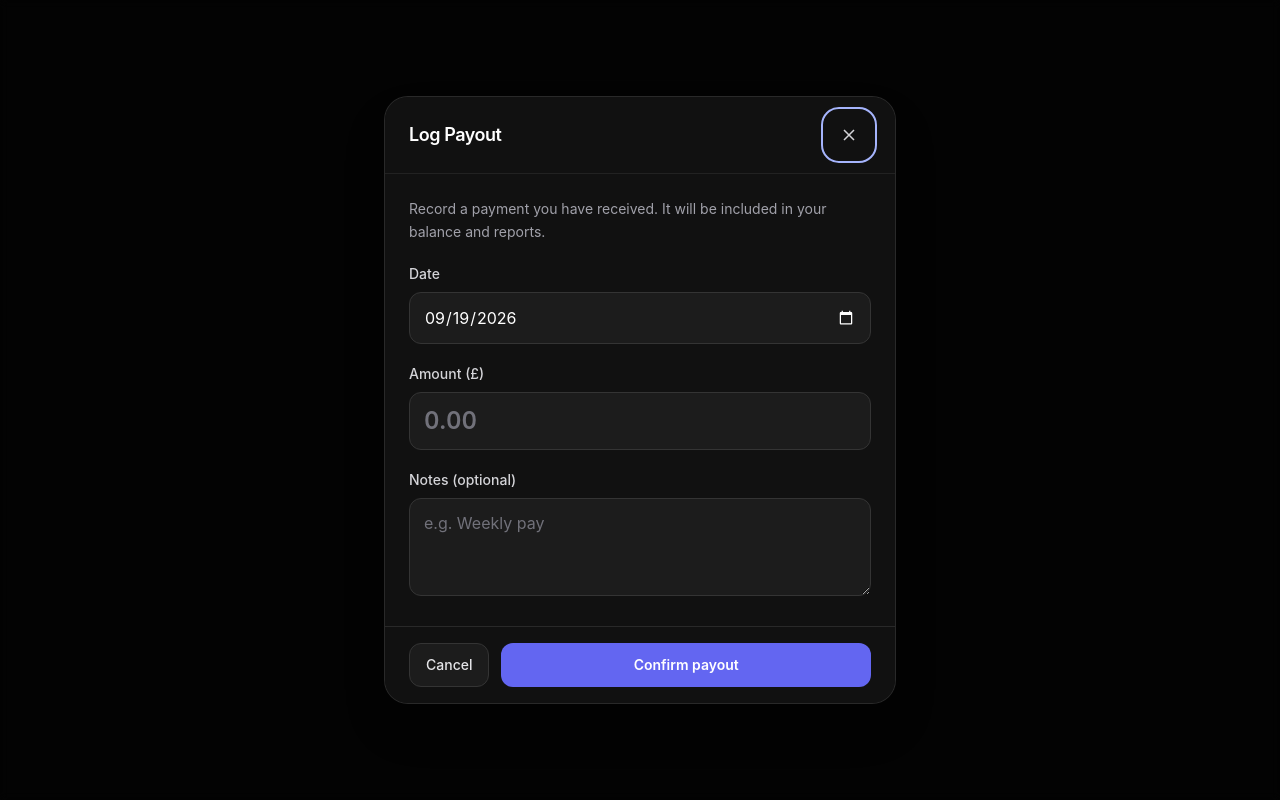
Scenario: payout form › explains an invalid amount instead of silently ignoring Save
This screenshot has width=1280, height=800.
Type "0" into the number field labelled "Amount (£)".
click(640, 421); type("0")  # box [409, 392, 871, 450]
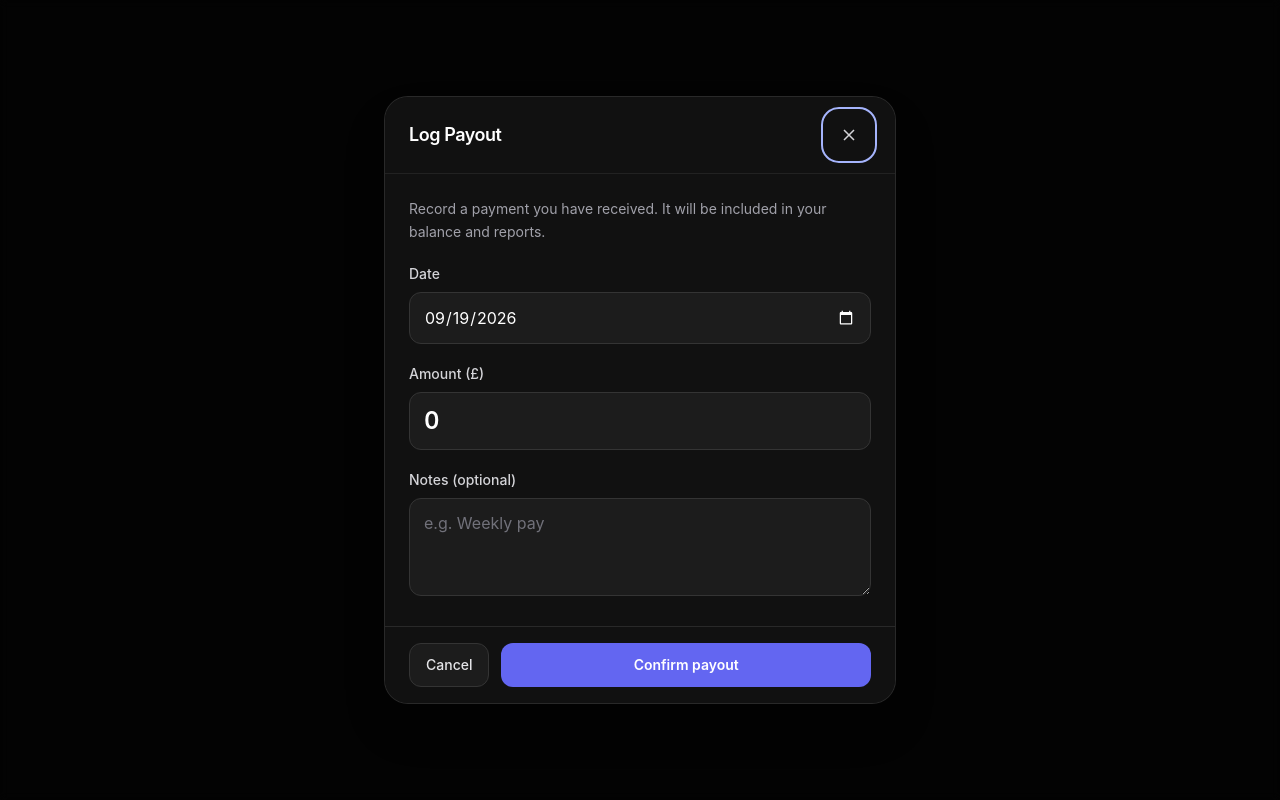
Click the button "Confirm payout".
click(686, 665)  # box [502, 643, 871, 687]
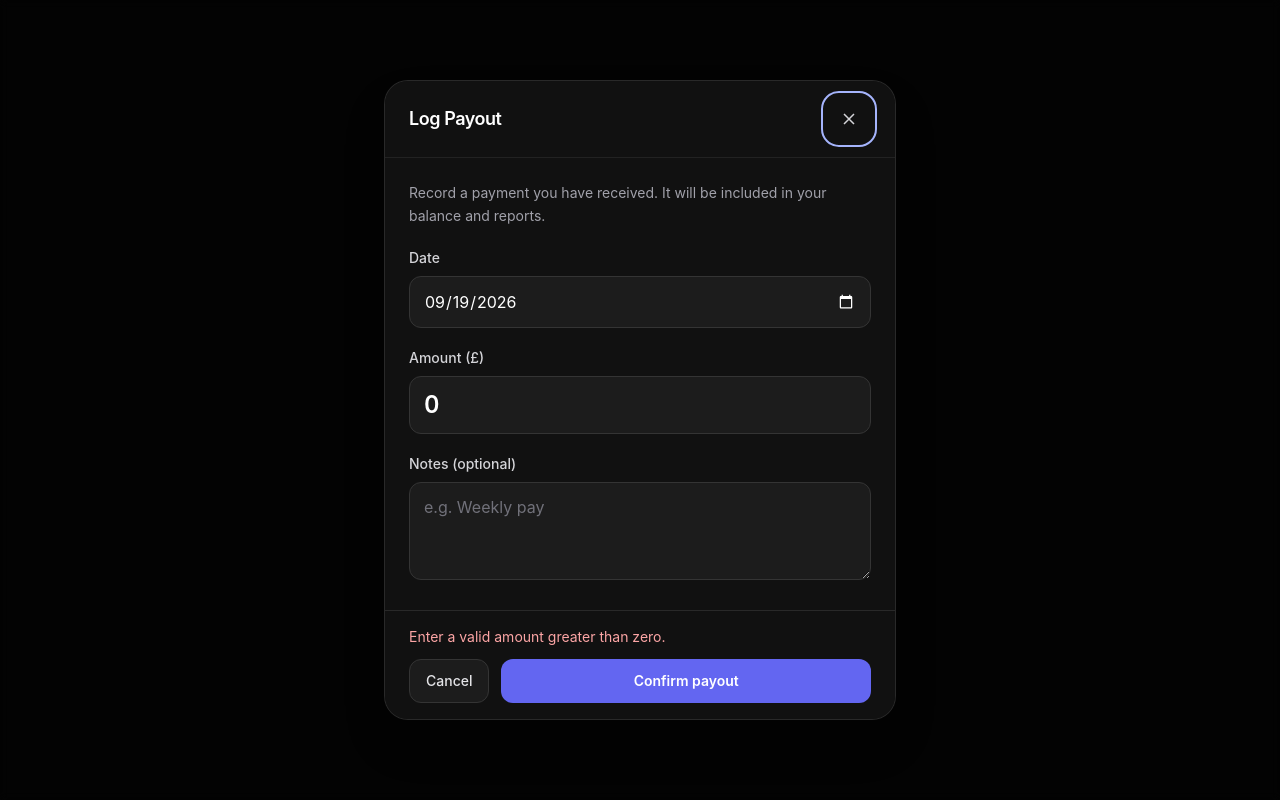
Expected: the message shows "amount", [409, 628, 666, 645]
